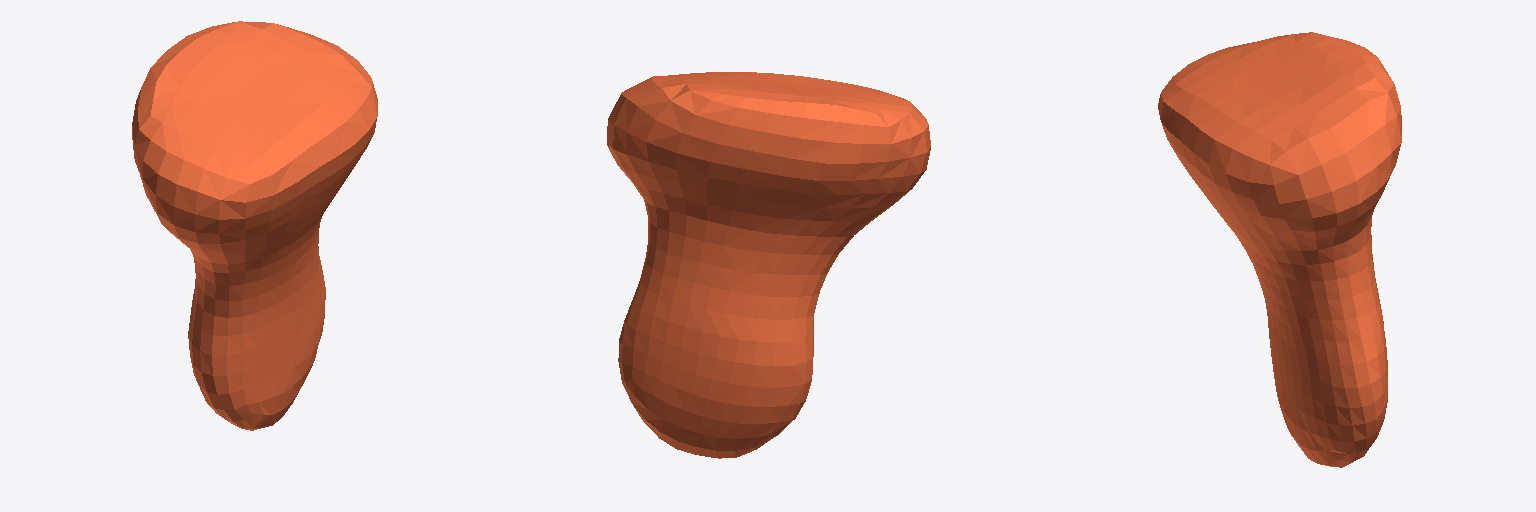
File: DistalPhalanx_5.obj
3 renders of one model, left to right at view 1: azimuth 30°, elevation 25°; view 2: azimuth 150°, elevation 25°; view 3: azimuth 270°, elevation 25°, orthographic.
Visible parts, largest first — view 1: Object_0DistalPhalanx_5; view 2: Object_0DistalPhalanx_5; view 3: Object_0DistalPhalanx_5.
Part boxes in pixels (x1,y1,x2,y2): Object_0DistalPhalanx_5: (132,21,377,430); Object_0DistalPhalanx_5: (607,72,930,458); Object_0DistalPhalanx_5: (1158,32,1401,467).
Bounding box in the file's own units: 7.04 × 10.05 × 5.76.